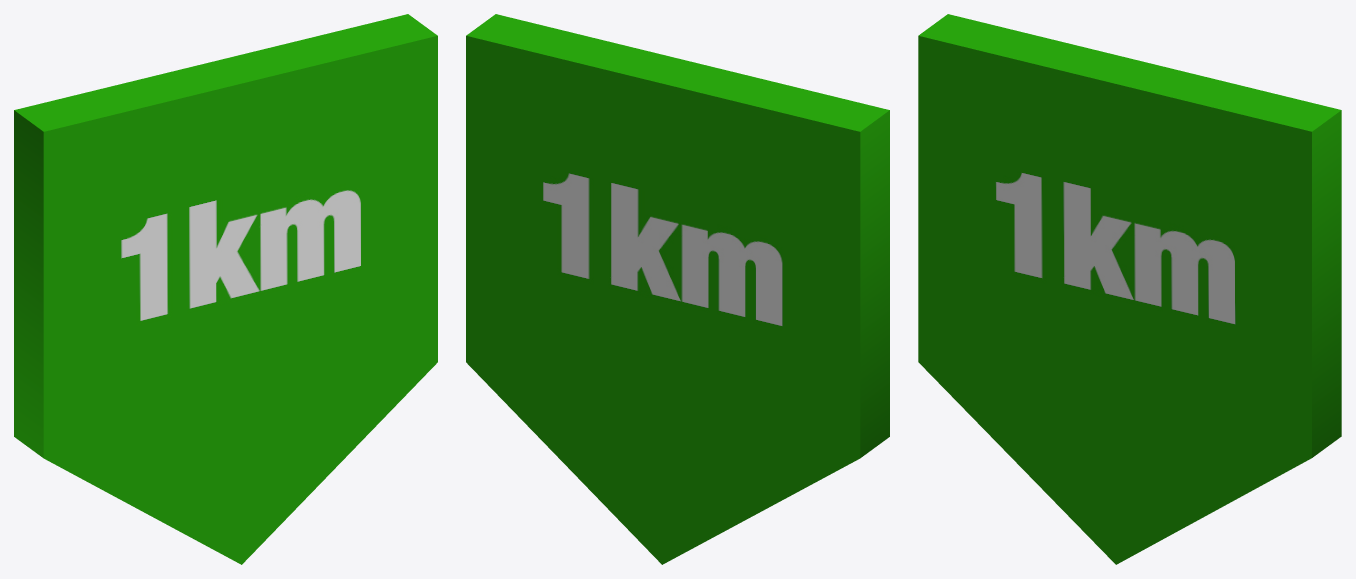
The model's file is 1km marker.fbx.
3 renders of one model, left to right at view 1: azimuth 30°, elevation 25°; view 2: azimuth 150°, elevation 25°; view 3: azimuth 330°, elevation 25°, orthographic.
Visible parts, largest first — view 1: pCube1; view 2: pCube1; view 3: pCube1.
Part boxes in pixels (x1,y1,x2,y2): pCube1: [14, 14, 437, 564]; pCube1: [466, 14, 889, 564]; pCube1: [918, 14, 1341, 564].
Size of the model in its own units: 3.96 by 4.62 by 0.5166.
Materials: 1 (1 with a texture image).
